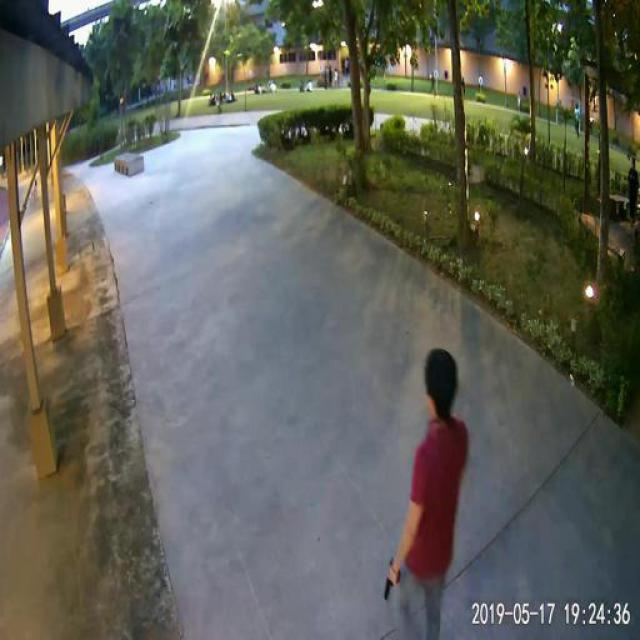weapon: (380, 555, 400, 601)
